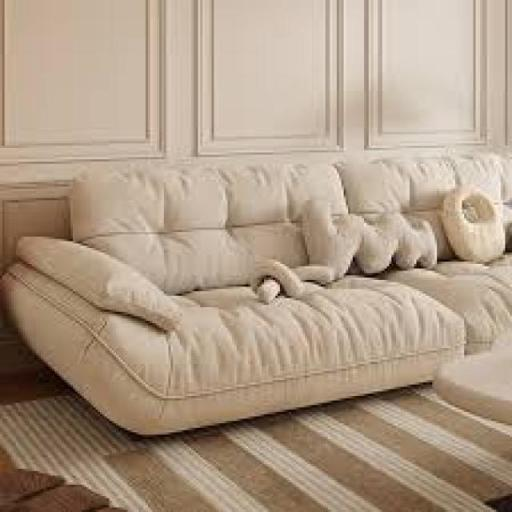sofa: (13, 130, 512, 433)
